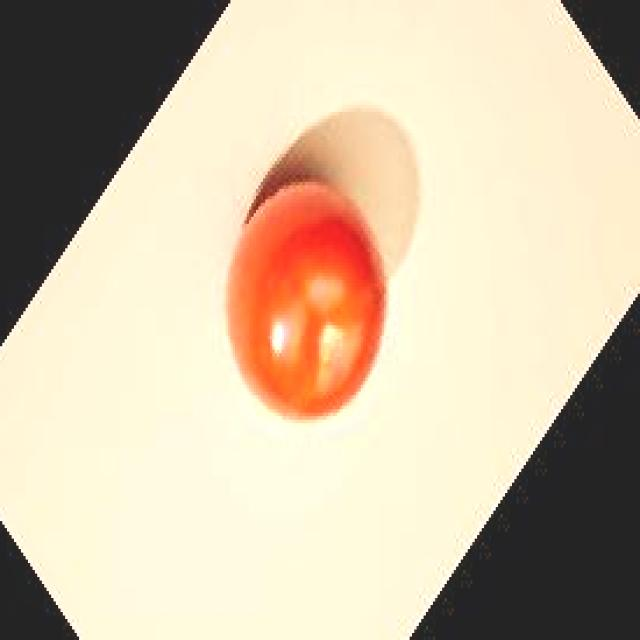tomato: (220, 175, 394, 432)
